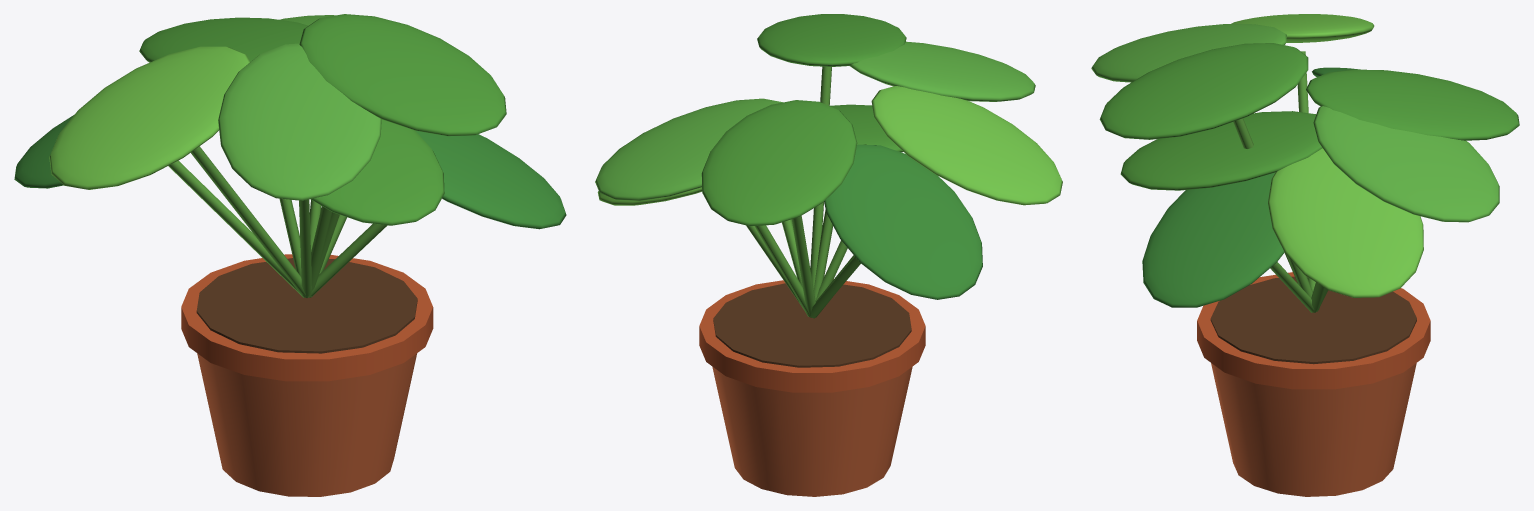
The model's file is kplant.glb.
The picture shows the model from 3 angles, left to right: view 1: azimuth 30°, elevation 25°; view 2: azimuth 150°, elevation 25°; view 3: azimuth 270°, elevation 25°; orthographic projection. The views are drawn at different scales.
Size of the model in its own units: 1.11 by 1.01 by 0.9545.
